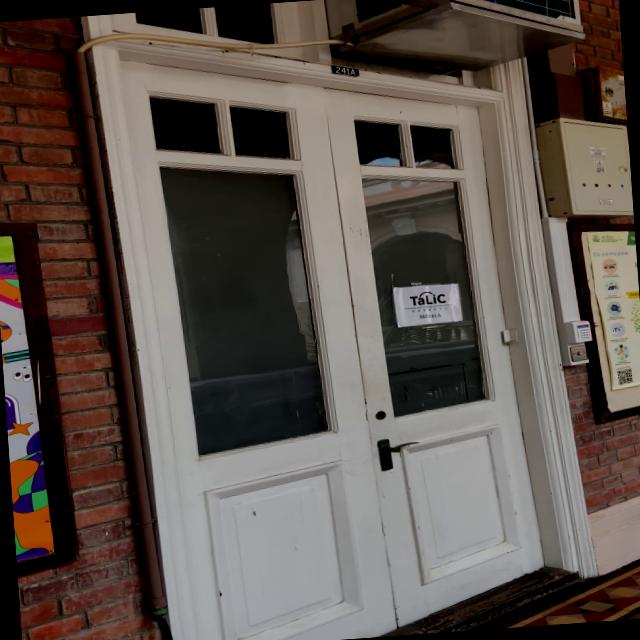room241a: (328, 60, 362, 80)
